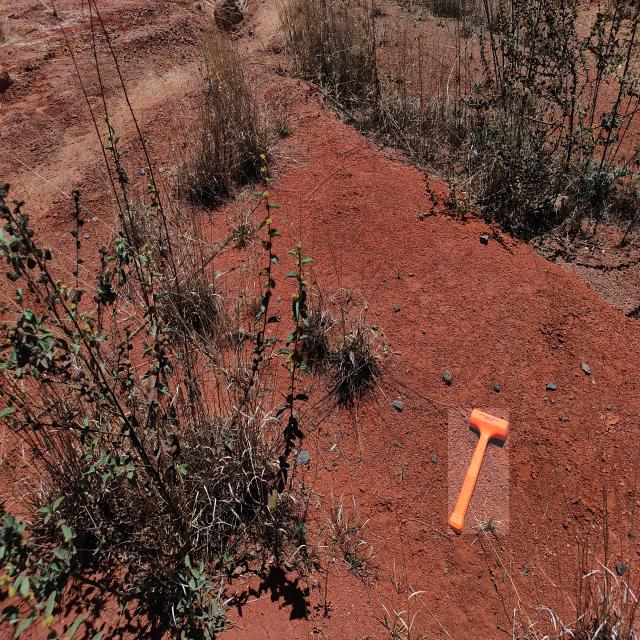Orange_hammer: (448, 408, 509, 534)
